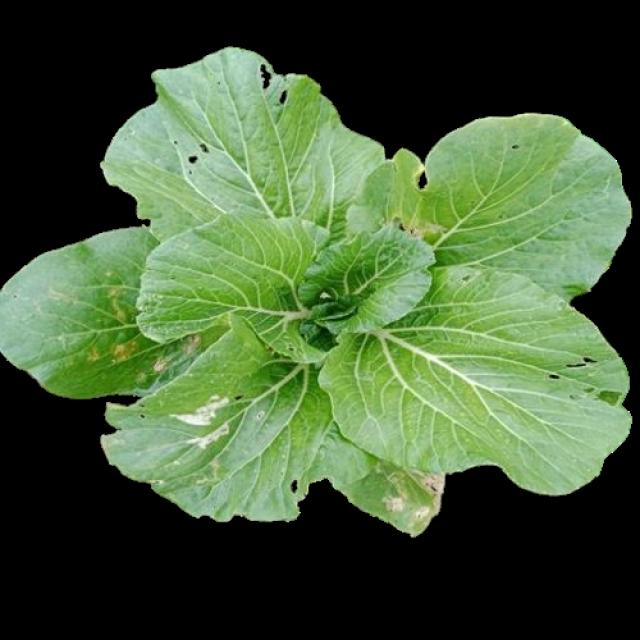mature: (1, 49, 628, 535)
unhealthy: (314, 270, 627, 490), (99, 48, 378, 244), (346, 115, 630, 296), (101, 321, 314, 520), (2, 235, 180, 402), (312, 429, 446, 530)
